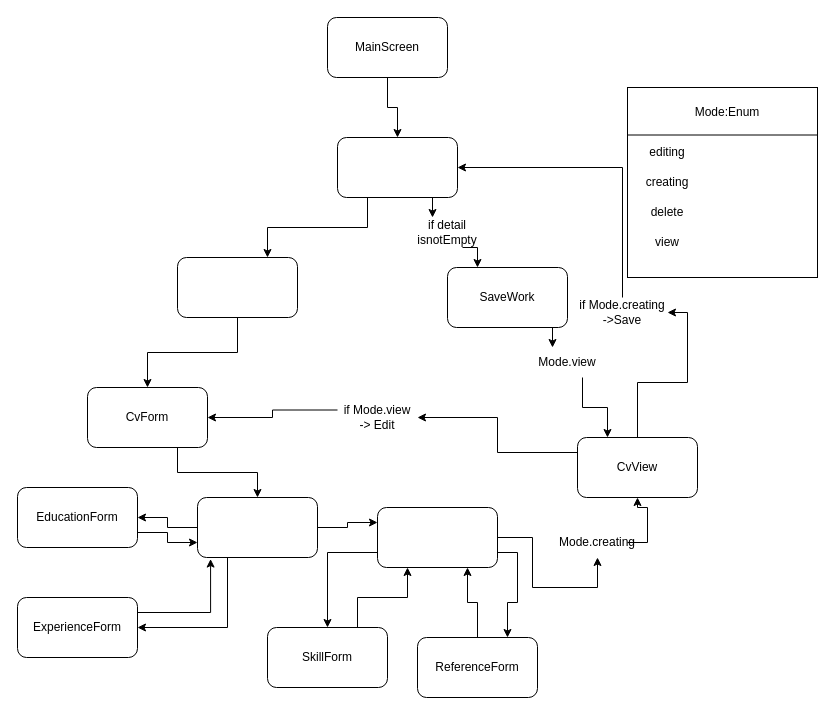
Some shapes in this 836 by 715 pixel diagram are drawn without their labels. Here are the shapes that lost their labels. From the top down, the centre of each, then its label:
[397,167]: HomeScreen
[237,287]: CvStyleItem
[257,527]: CvFormSecondPage
[437,537]: CvFormThirdPage
